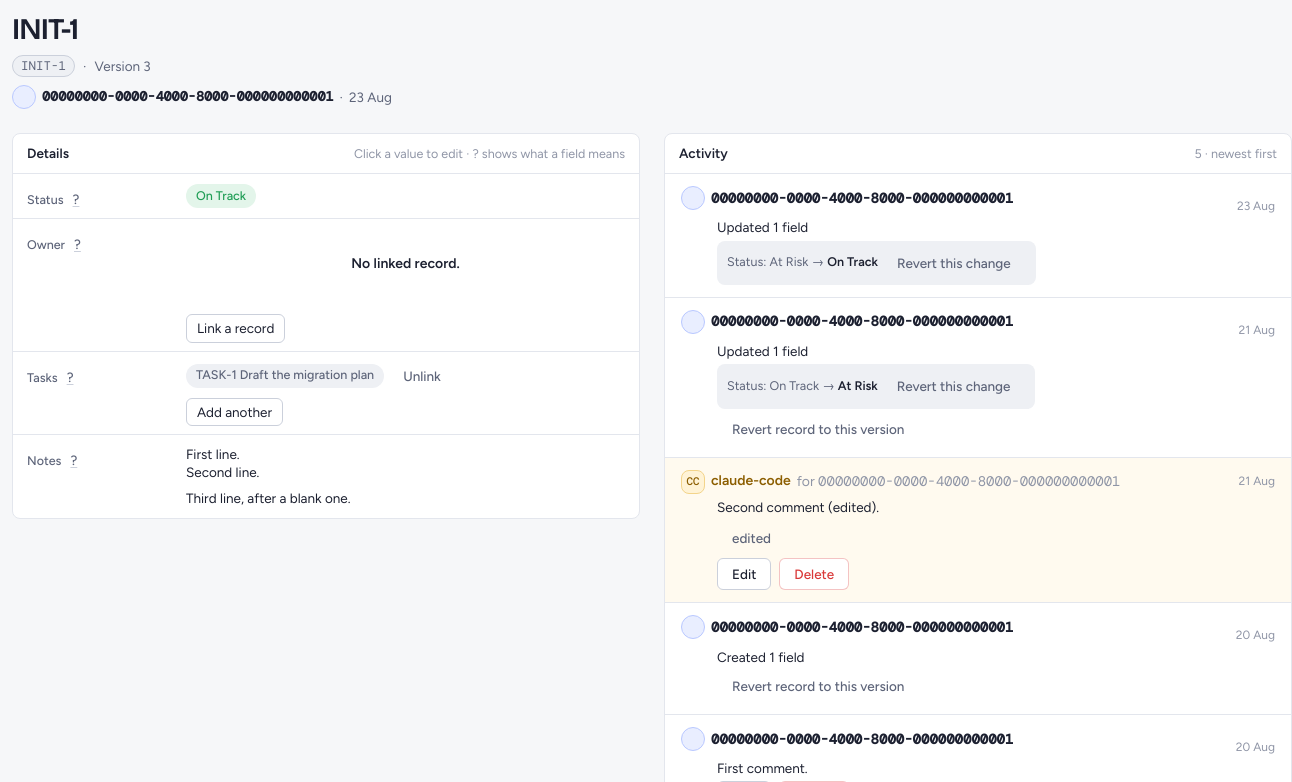
RecordDetailView › relation fields (one row per field, a pill per link) › unlinks a record from a cardinality-many relation
The image size is (1292, 782).
Expected: the heading "INIT-1" is shown, left=12, top=11, right=78, bottom=47
Click the button with aria-label "Unlink TASK-1 Draft the migration plan" at (422, 376), box left=388, top=360, right=456, bottom=392
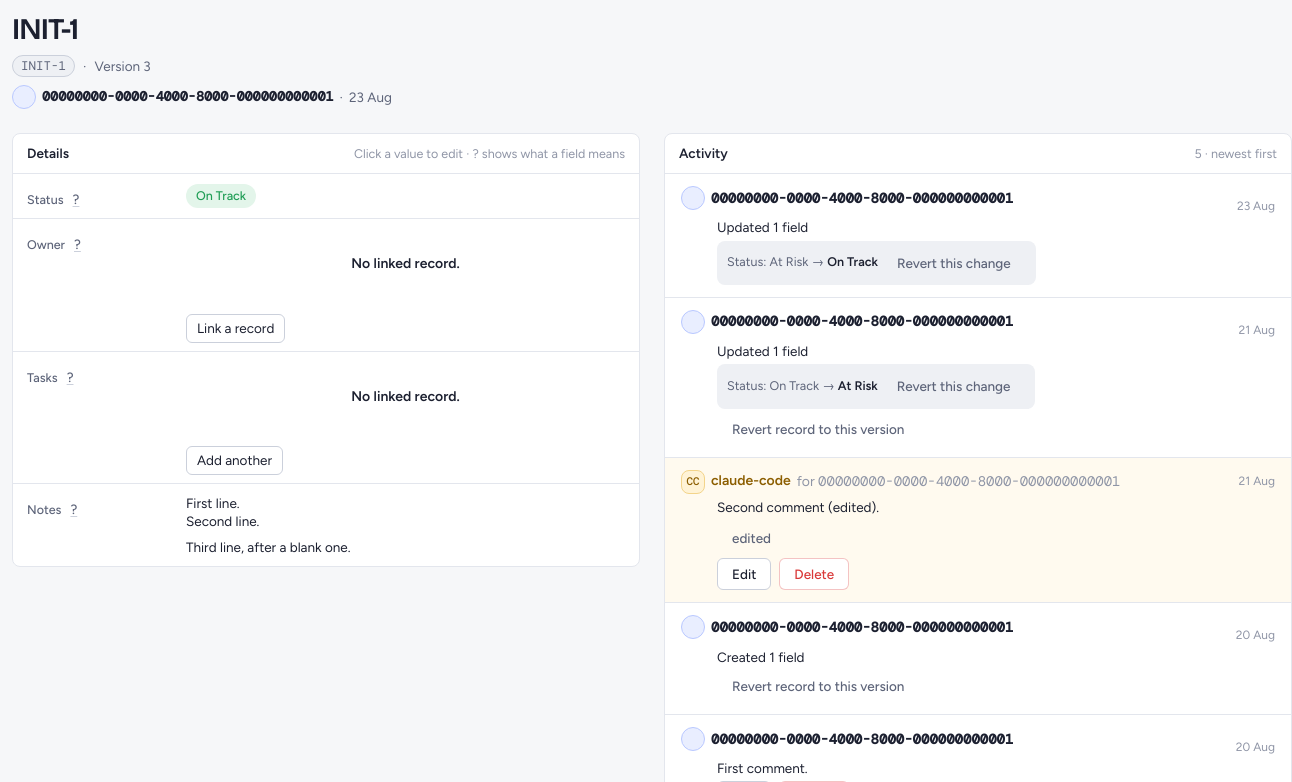
Expected: the text "No linked record." below "Tasks" is shown, left=351, top=388, right=460, bottom=405
